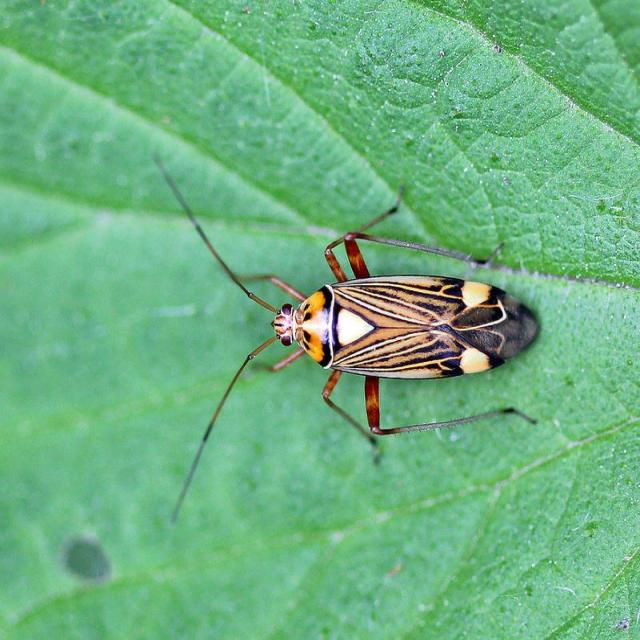Miridae-Adult-: (151, 147, 564, 456)
